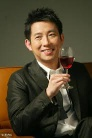male: (20, 10, 77, 83)
